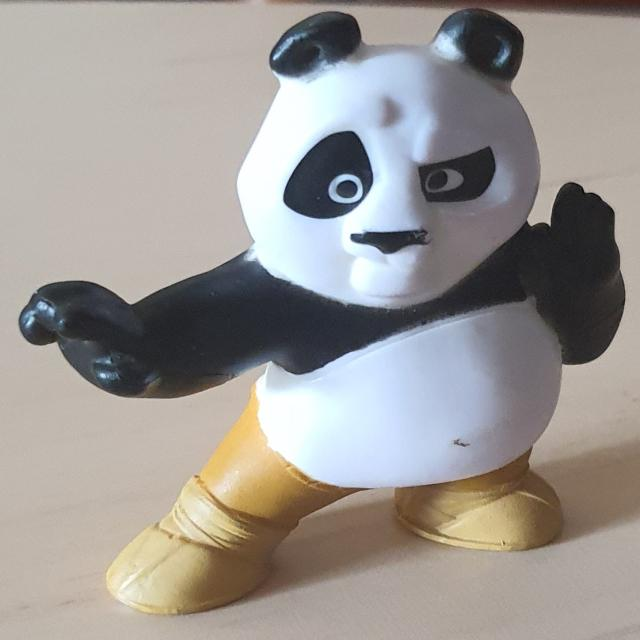Panda: (17, 7, 626, 616)
